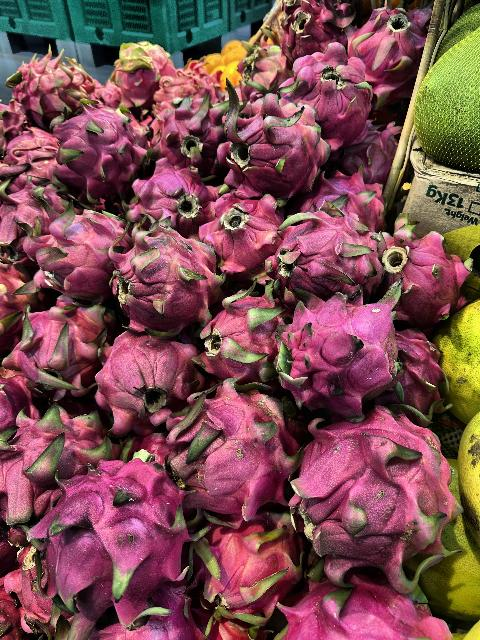buah-naga-belum-matang: (106, 36, 176, 102), (0, 128, 60, 188)
buah-naga-matang: (283, 411, 464, 579), (28, 458, 198, 614), (168, 392, 298, 516), (273, 292, 405, 414), (276, 574, 478, 640), (0, 404, 110, 514), (214, 92, 326, 196), (110, 224, 218, 330), (281, 43, 377, 154), (272, 212, 390, 302), (94, 328, 200, 428), (48, 104, 148, 204), (376, 218, 464, 330), (6, 304, 104, 400), (198, 530, 292, 626), (21, 205, 124, 292), (194, 290, 282, 384), (2, 49, 92, 125), (352, 5, 424, 94), (198, 190, 278, 270), (125, 158, 210, 226), (270, 0, 352, 60), (152, 107, 220, 177)
